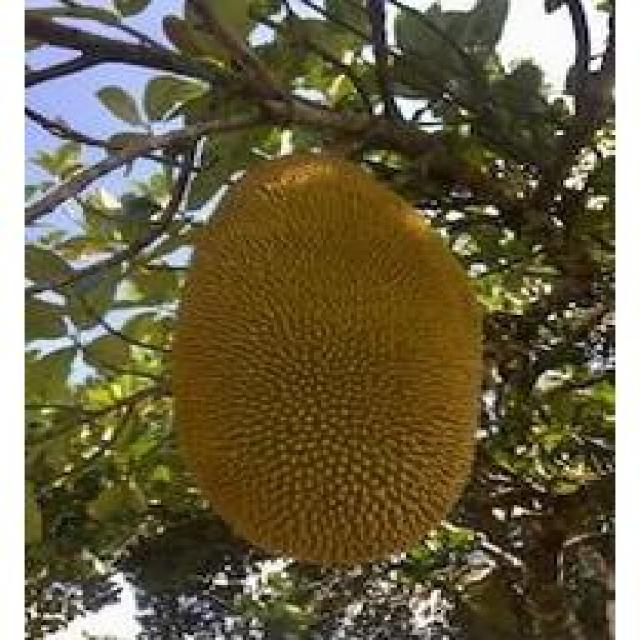Fruit: (135, 182, 520, 600)
